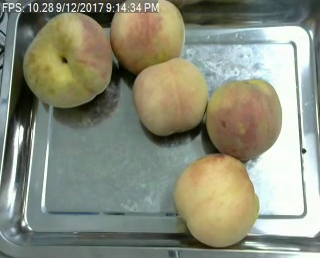Peach: (22, 11, 113, 109), (174, 154, 259, 247), (205, 78, 282, 157), (133, 57, 208, 135), (109, 0, 185, 73)
